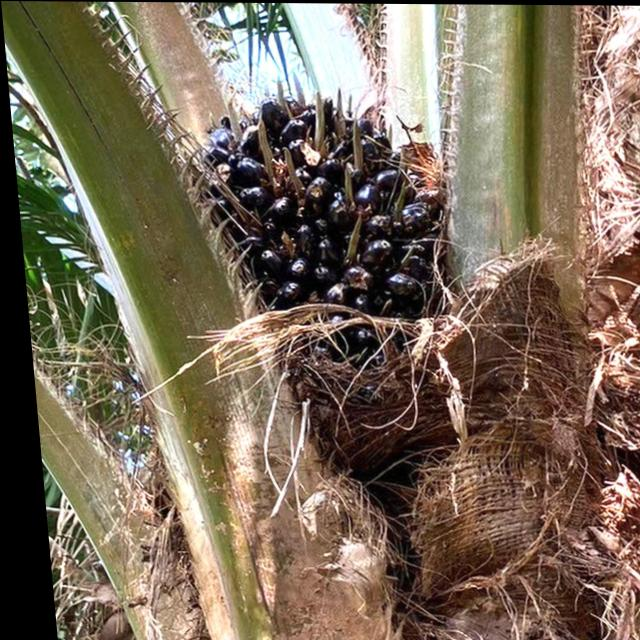unripe: (146, 61, 494, 473)
